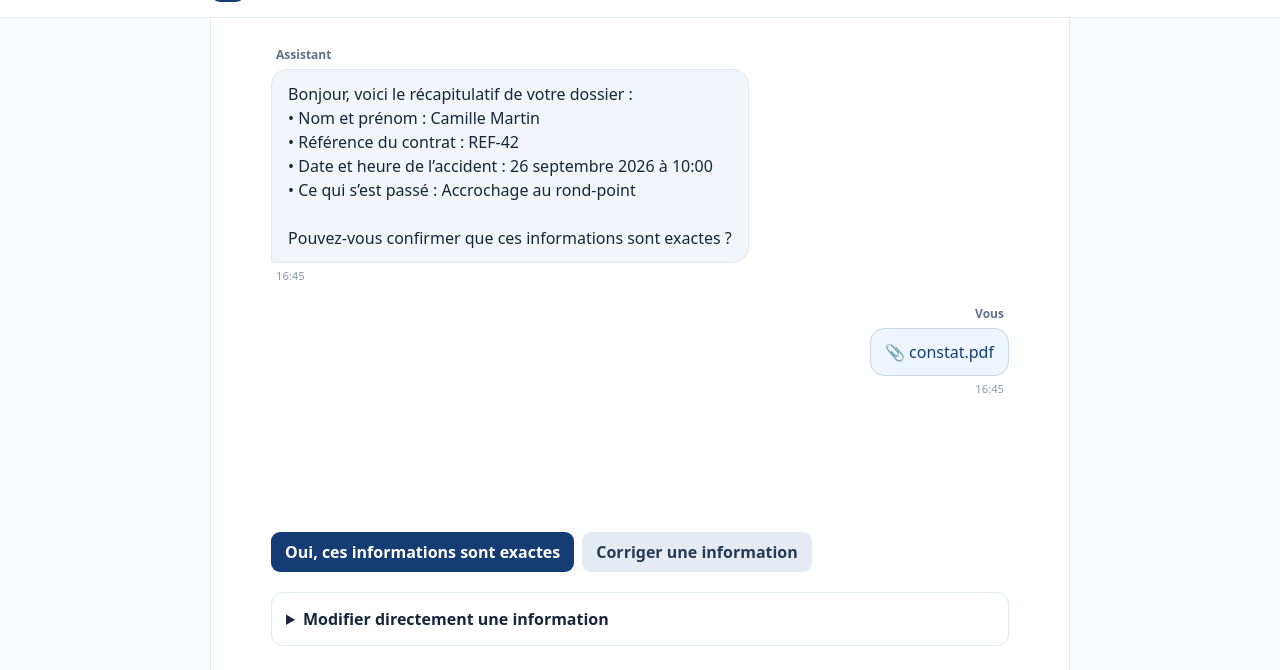
Scenario: does not treat a PDF as a photo
Expected: the text "Bonjour, voici le récapitulatif" is shown, left=288, top=83, right=732, bottom=249
What coordinates should you click on to do the following:
click the button "Oui, ces informations sont exactes"
I would click on:
 (423, 552)
Its box is left=271, top=532, right=574, bottom=572.
(page scrolled)
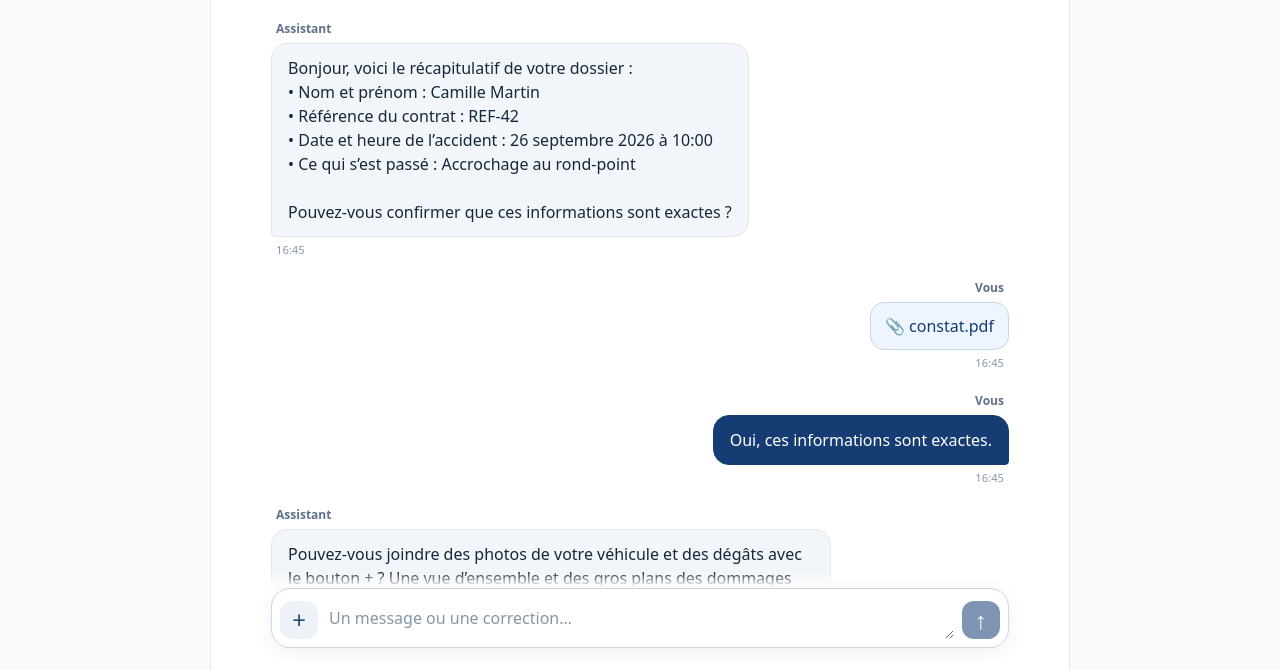
Expected: the text "Pouvez-vous joindre des photos" is shown, left=288, top=543, right=806, bottom=613
